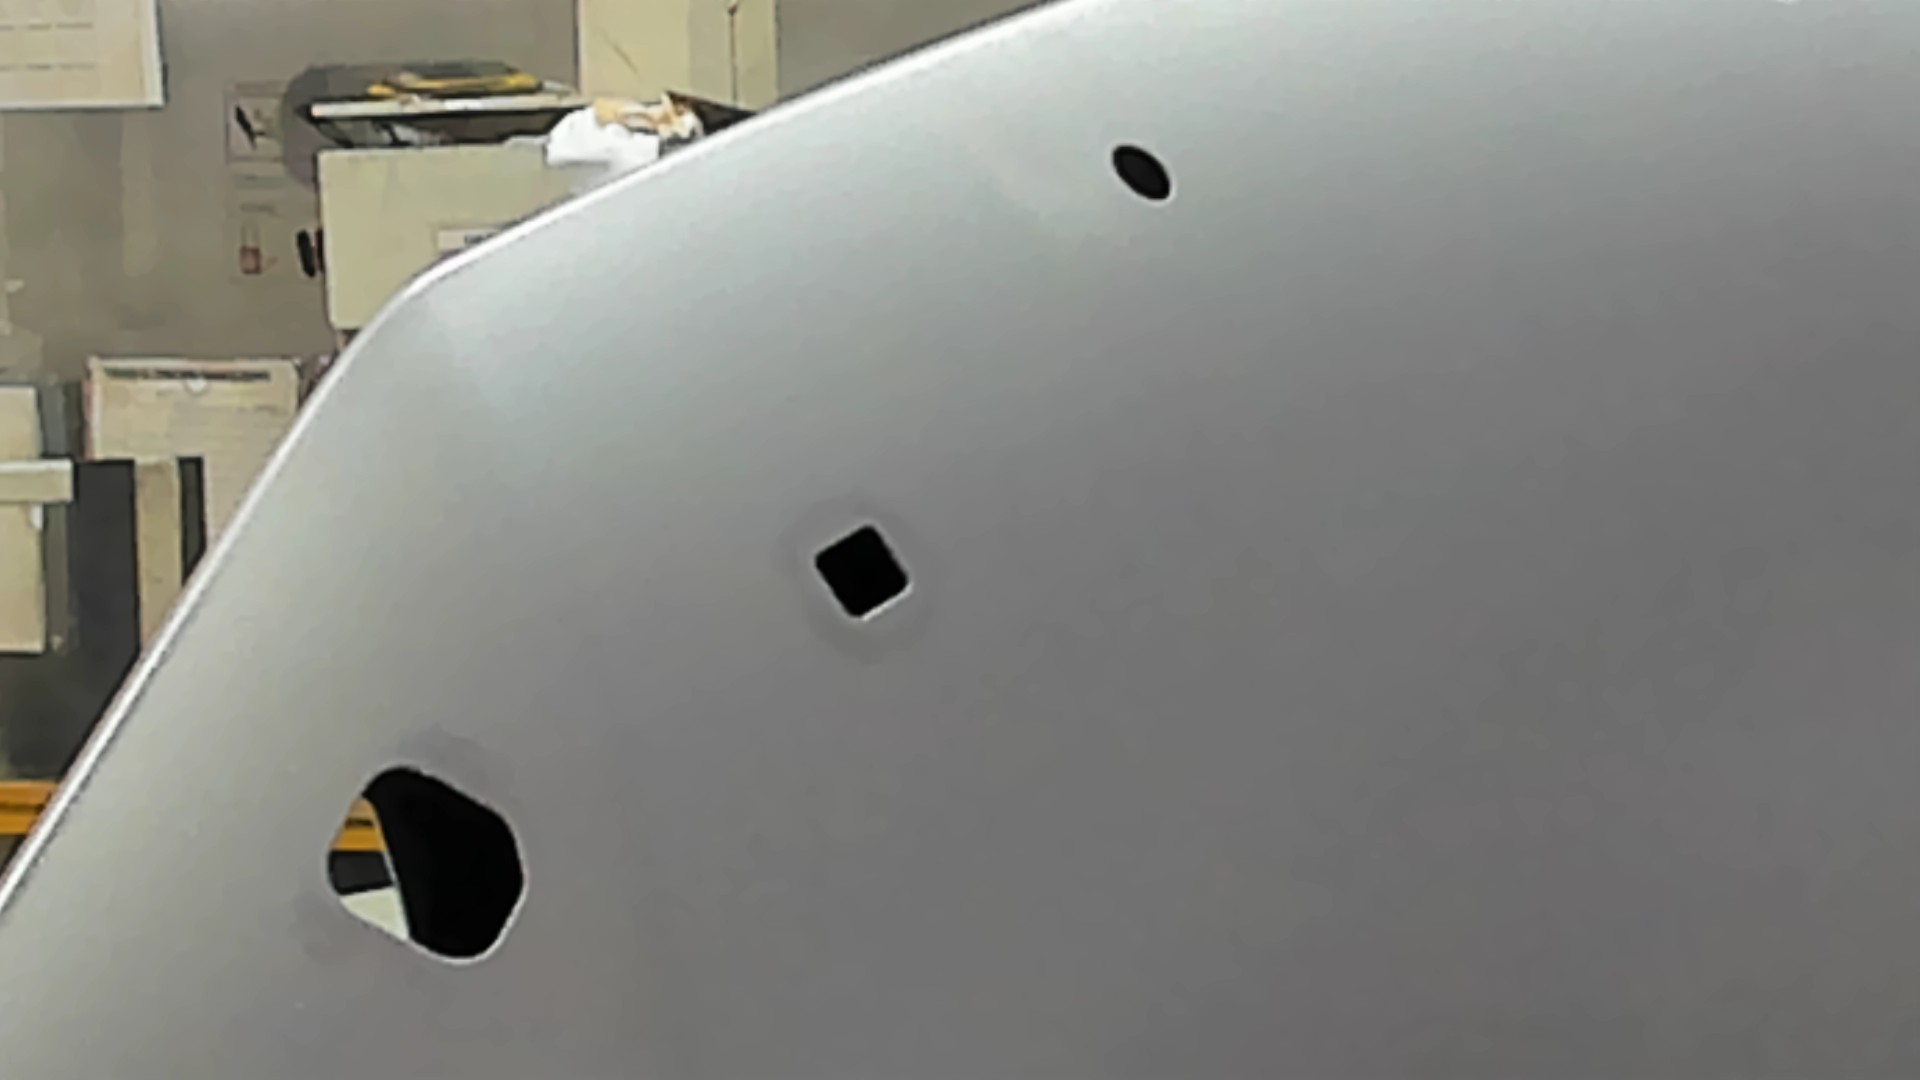Agujero: (811, 522, 913, 622), (1106, 142, 1174, 200)
Agujerote: (324, 762, 529, 967)
